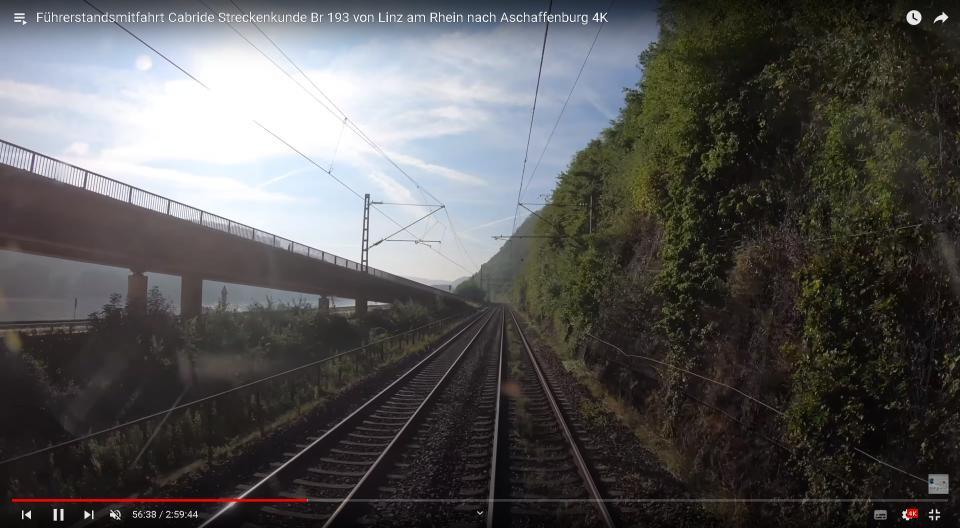Plant: (523, 325, 716, 483), (505, 319, 525, 379), (510, 396, 534, 445), (581, 398, 611, 428)
